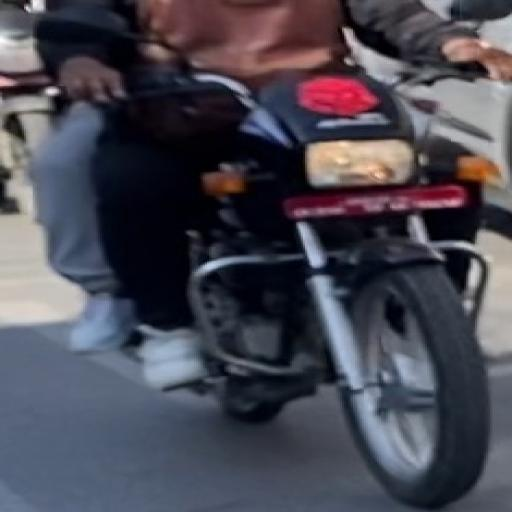license_plate: (281, 182, 474, 222)
